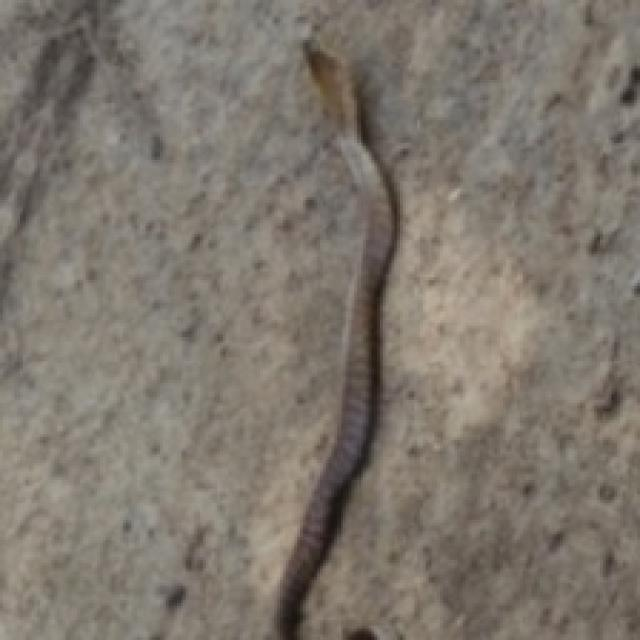philippine cobra: (274, 43, 394, 637)
